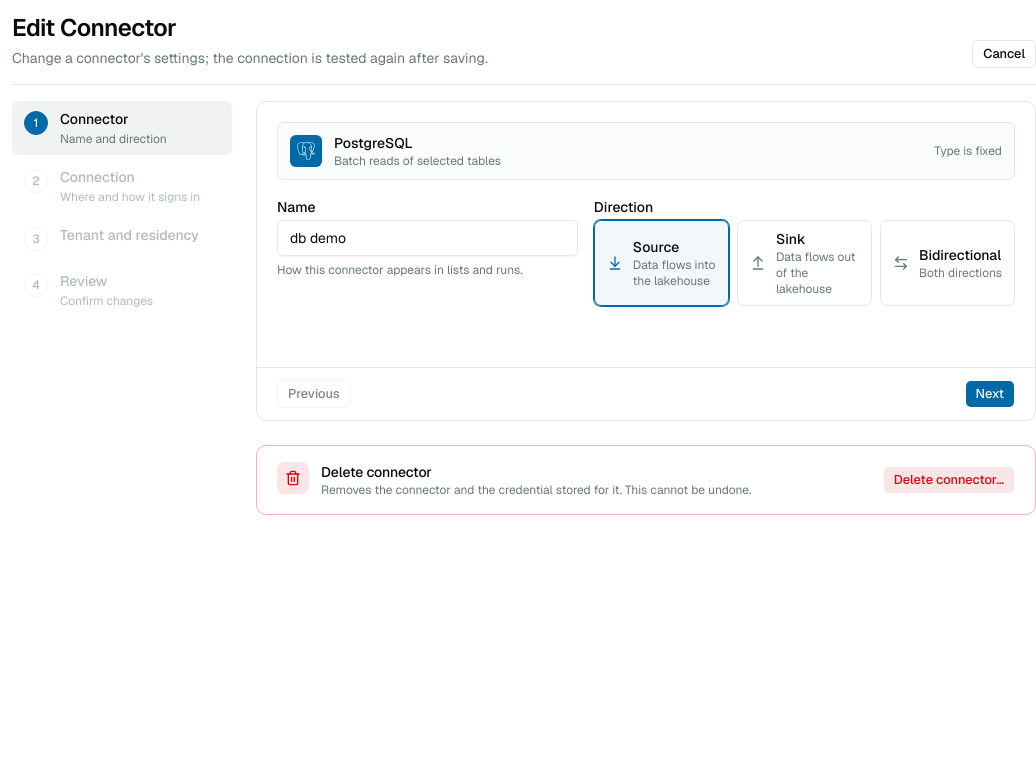
Scenario: ConnectorEditPage › will not save when nothing changed
Check: the field labelled "Name" is shown, box x1=277 y1=220 x2=578 y2=256
Click the button "Next". click: x=990, y=394
box: x1=964 y1=380 x2=1015 y2=408
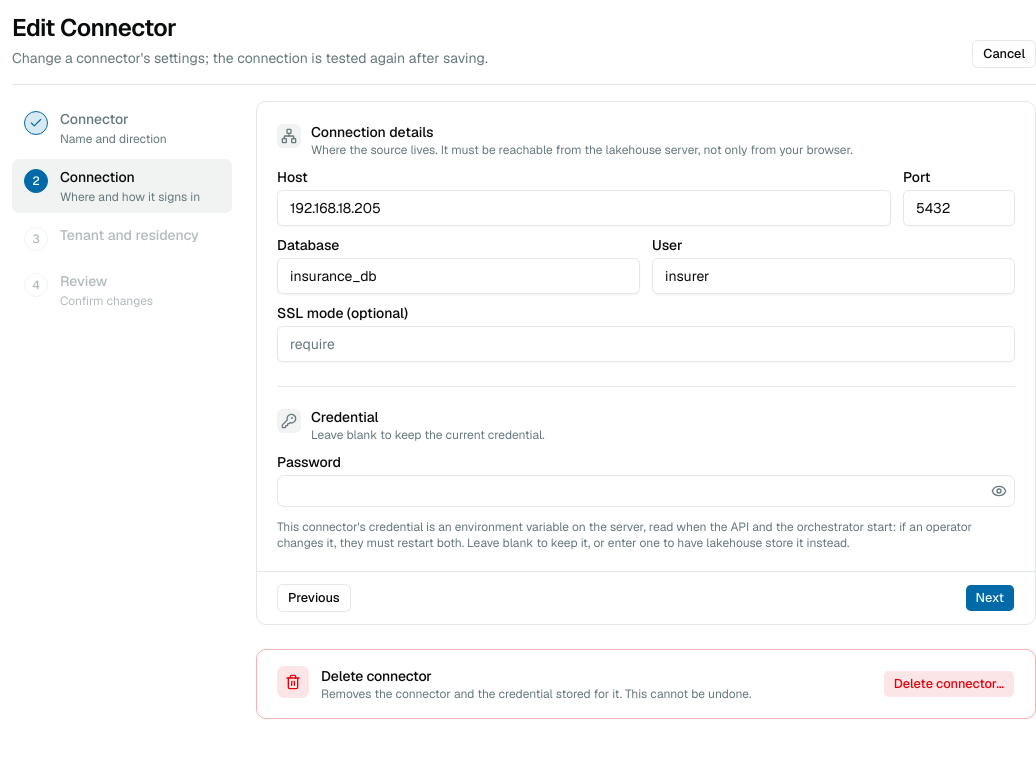
Click the button "Next". click: x=990, y=598
box: x1=964 y1=584 x2=1015 y2=612
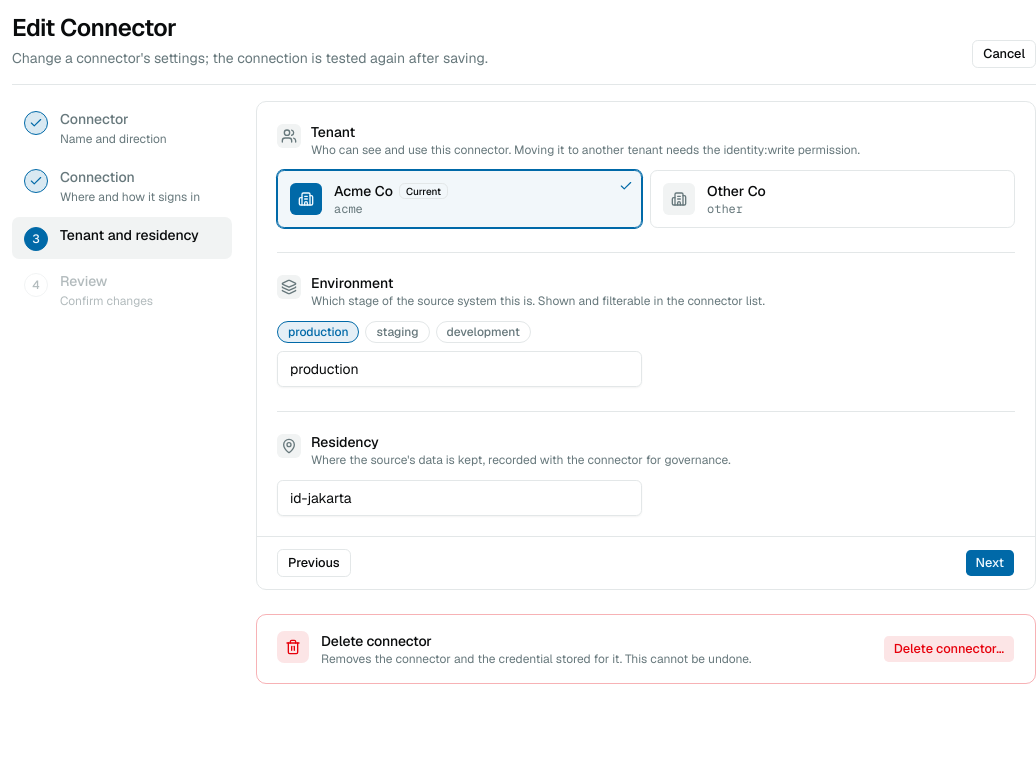
Click the button "Next". click: x=990, y=563
box: x1=964 y1=549 x2=1015 y2=577
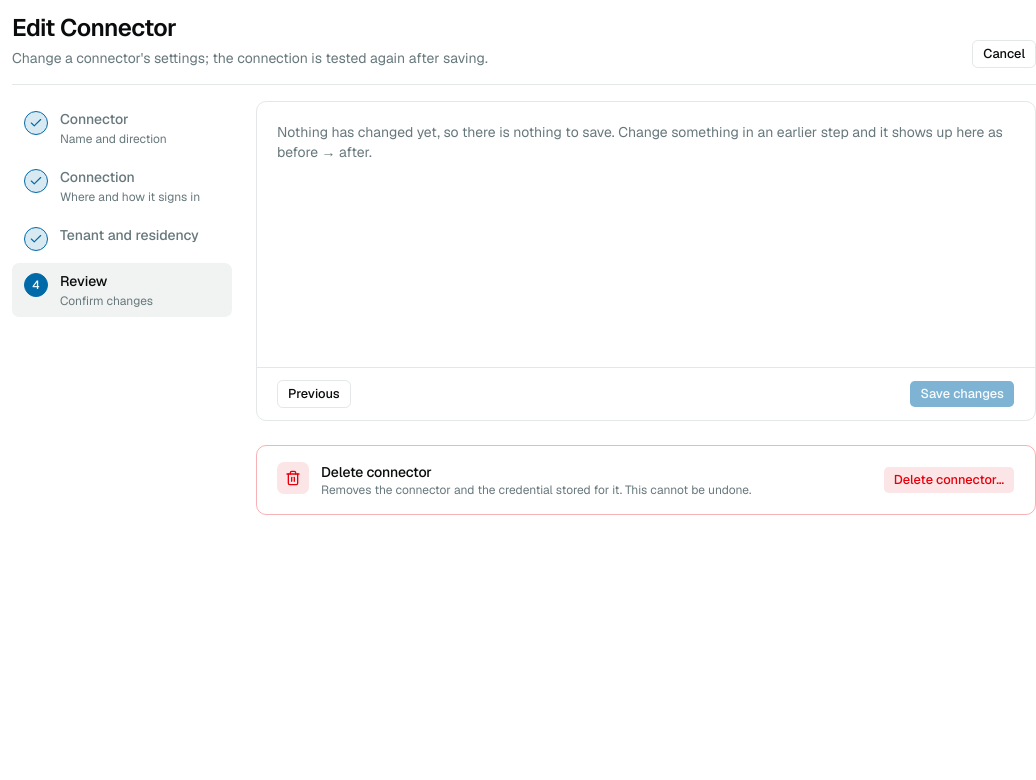
Check: the text "Nothing has changed yet, so there is nothing to save" is shown, box x1=277 y1=123 x2=1003 y2=161
Check: the button "Save changes" is disabled, box x1=910 y1=380 x2=1015 y2=408
